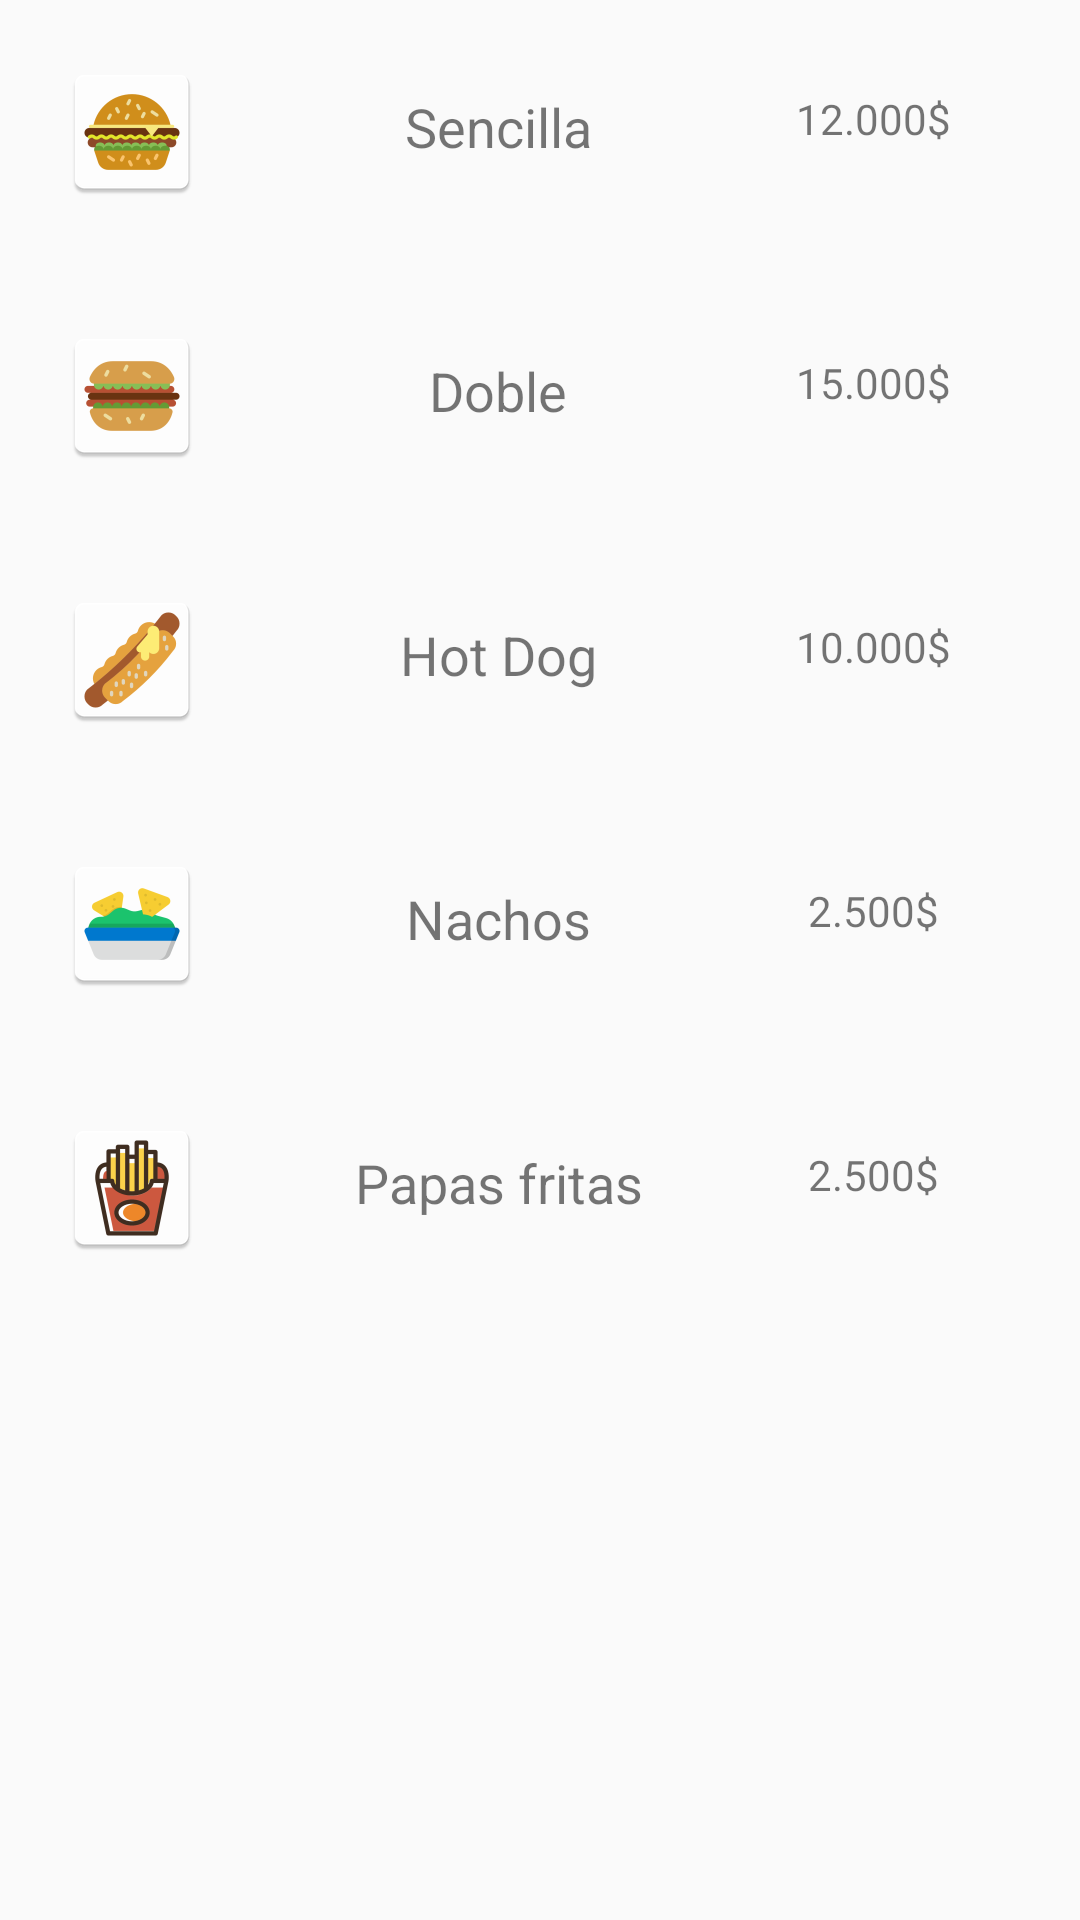

Icon click points for this 1080×1920 phone screenshot, format (x=x, y=y):
fast: (x=132, y=137), (x=132, y=401), (x=132, y=665), (x=132, y=929)
